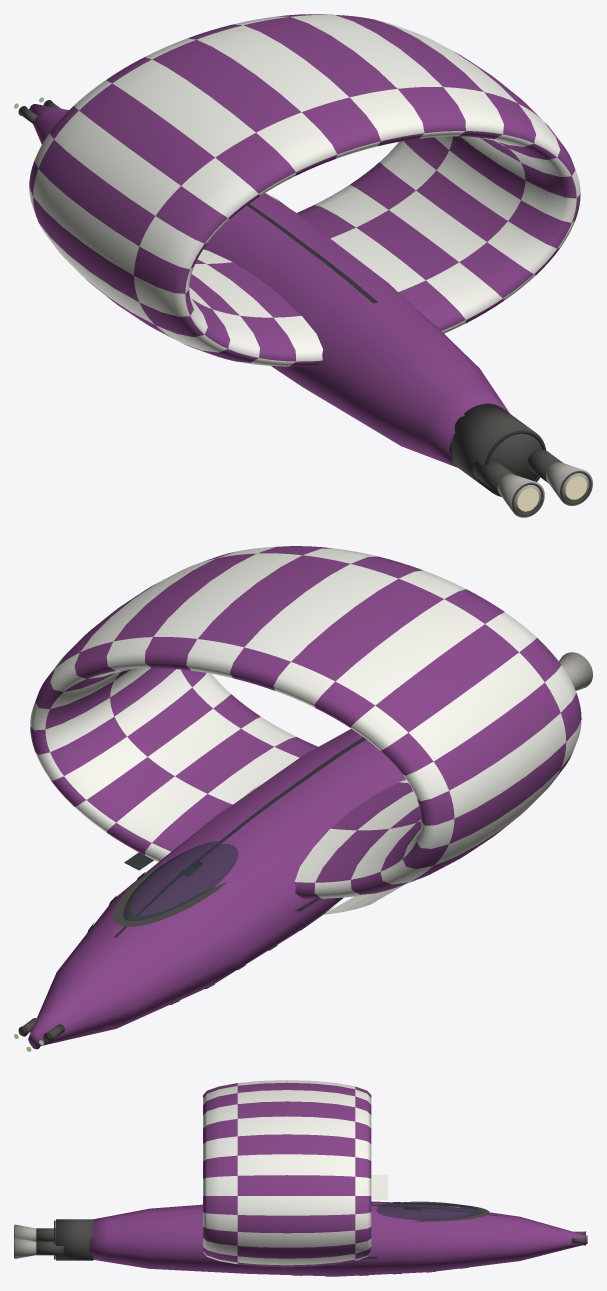
File: Ship_Hooper_443110.glb
3 renders of one model, top to bottom at view 1: azimuth 30°, elevation 25°; view 2: azimuth 150°, elevation 25°; view 3: azimuth 270°, elevation 25°, orthographic. The views are drawn at different scales.
Parts seen in each view (by area): view 1: Hoop_MainStructuralRing_YAxisHole_ElongatedY_LowerMidpointAt, Fuselage_MainCenteredHull_CenterOfMassAtOrigin, EngineBlock_AftHullIntegratedMountPlate, EngineBell_Left_AftHullBurnishedNozzle, EngineBell_Right_AftHullBurnishedNozzle, EngineEmitter, EngineThroat_Left_AftHullDarkSocket, FuselageLongitudinalSeam_DorsalDarkSpine; view 2: Hoop_MainStructuralRing_YAxisHole_ElongatedY_LowerMidpointAt, Fuselage_MainCenteredHull_CenterOfMassAtOrigin, CanopyGlass_LowForwardPodDome, CanopyFrame_LowInsetOvalRim, FuselageLongitudinalSeam_DorsalDarkSpine, EngineBell_Left_AftHullBurnishedNozzle; view 3: Hoop_MainStructuralRing_YAxisHole_ElongatedY_LowerMidpointAt, Fuselage_MainCenteredHull_CenterOfMassAtOrigin, CanopyGlass_LowForwardPodDome, EngineBlock_AftHullIntegratedMountPlate, CanopyFrame_LowInsetOvalRim, PaintHoopCleanOrbital_03_ShortTrimBand, EngineBell_Right_AftHullBurnishedNozzle, EngineThroat_Right_AftHullDarkSocket, EngineBell_Left_AftHullBurnishedNozzle.
Boxes of the visible parts, x1,y1,x2,y2 form: Hoop_MainStructuralRing_YAxisHole_ElongatedY_LowerMidpointAt: (29, 14, 580, 366); Fuselage_MainCenteredHull_CenterOfMassAtOrigin: (29, 104, 509, 467); EngineBlock_AftHullIntegratedMountPlate: (451, 403, 545, 496); EngineBell_Left_AftHullBurnishedNozzle: (497, 474, 544, 517); EngineBell_Right_AftHullBurnishedNozzle: (546, 462, 592, 505); EngineEmitter: (517, 476, 587, 511); EngineThroat_Left_AftHullDarkSocket: (472, 460, 514, 494); FuselageLongitudinalSeam_DorsalDarkSpine: (247, 203, 378, 303); Hoop_MainStructuralRing_YAxisHole_ElongatedY_LowerMidpointAt: (30, 546, 581, 898); Fuselage_MainCenteredHull_CenterOfMassAtOrigin: (28, 728, 405, 1047); CanopyGlass_LowForwardPodDome: (123, 841, 238, 921); CanopyFrame_LowInsetOvalRim: (113, 865, 227, 926); FuselageLongitudinalSeam_DorsalDarkSpine: (114, 737, 366, 937); EngineBell_Left_AftHullBurnishedNozzle: (559, 652, 592, 690); Hoop_MainStructuralRing_YAxisHole_ElongatedY_LowerMidpointAt: (203, 1080, 371, 1267); Fuselage_MainCenteredHull_CenterOfMassAtOrigin: (89, 1201, 587, 1276); CanopyGlass_LowForwardPodDome: (376, 1201, 481, 1220); EngineBlock_AftHullIntegratedMountPlate: (56, 1219, 93, 1260); CanopyFrame_LowInsetOvalRim: (411, 1203, 489, 1221); PaintHoopCleanOrbital_03_ShortTrimBand: (371, 1174, 387, 1200); EngineBell_Right_AftHullBurnishedNozzle: (14, 1237, 36, 1258); EngineThroat_Right_AftHullDarkSocket: (36, 1241, 63, 1255); EngineBell_Left_AftHullBurnishedNozzle: (14, 1224, 36, 1241).
Size of the model in its own units: 3.48 by 2.3 by 7.15.
